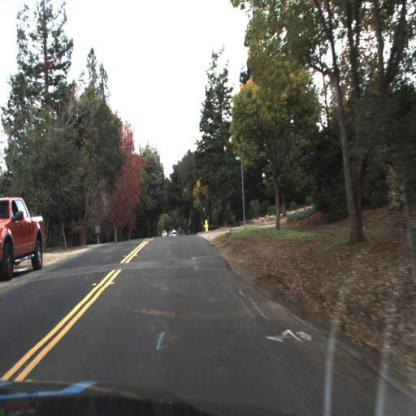car: (1, 196, 49, 282), (171, 229, 182, 243), (161, 227, 168, 244)
